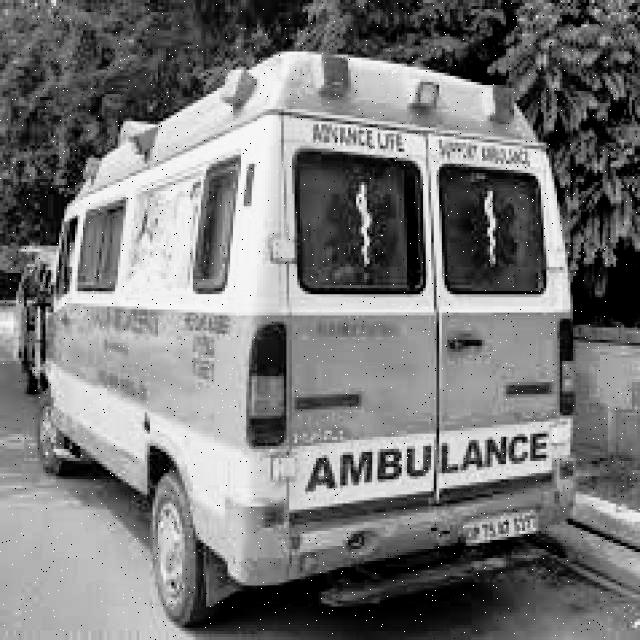LCV: (240, 53, 574, 580)
